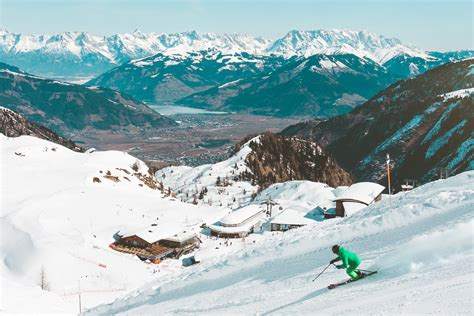skier: (305, 242, 383, 291)
